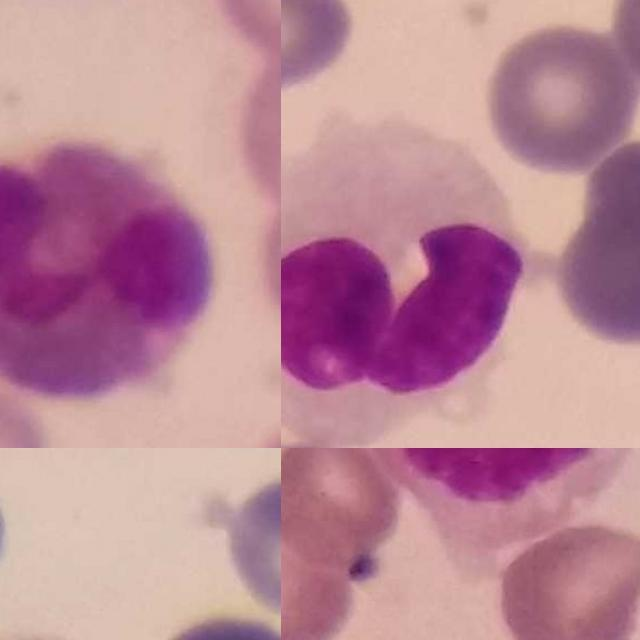Eosinophil: (0, 142, 212, 401)
Monocyte: (281, 119, 530, 440), (353, 448, 640, 499)
